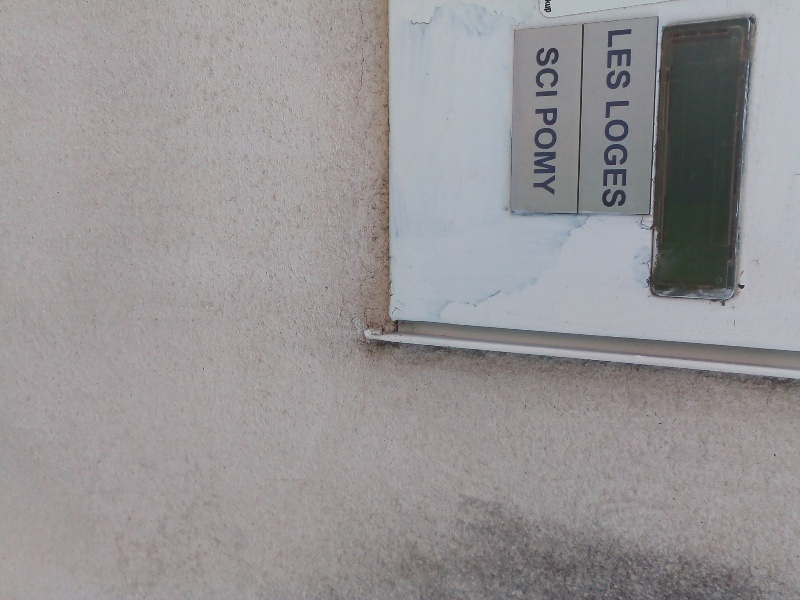text: (609, 99, 624, 209), (545, 108, 559, 199), (533, 108, 544, 199), (609, 28, 624, 92), (545, 46, 560, 99), (625, 99, 631, 209), (534, 46, 544, 99), (625, 28, 633, 92), (605, 99, 608, 209), (545, 1, 554, 14), (543, 1, 544, 14)
